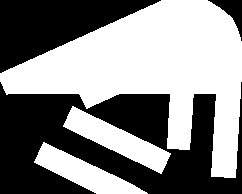parkingspot: (0, 0, 242, 177), (63, 106, 170, 173), (34, 142, 148, 194), (76, 50, 168, 108), (167, 68, 194, 149)
